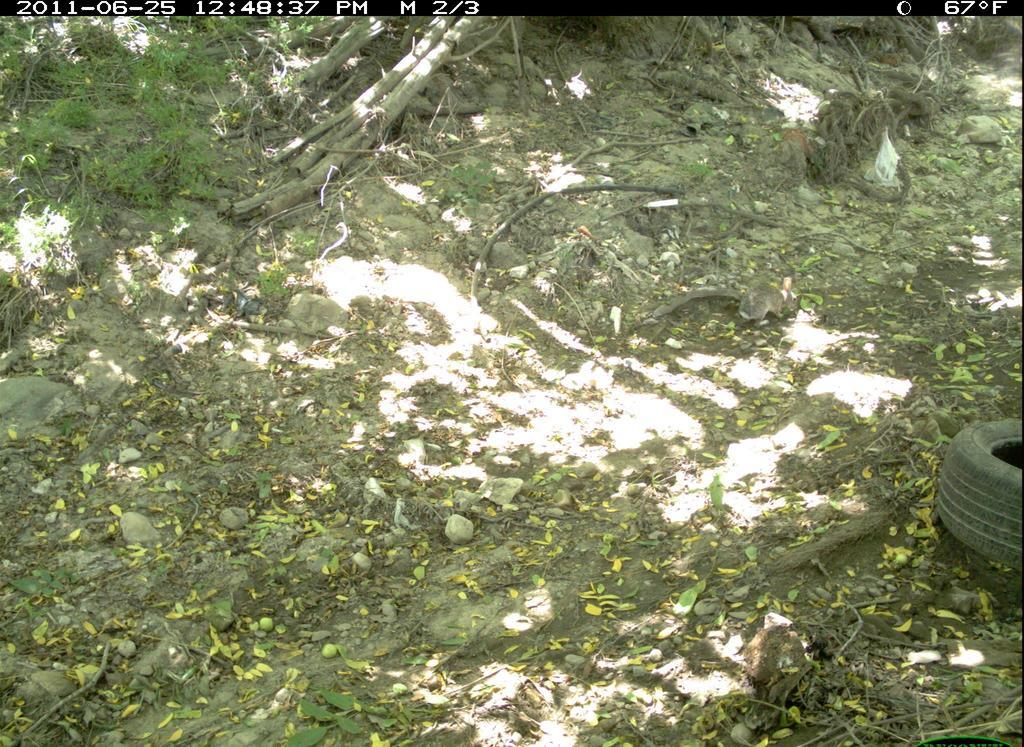rabbit: (730, 255, 803, 338)
